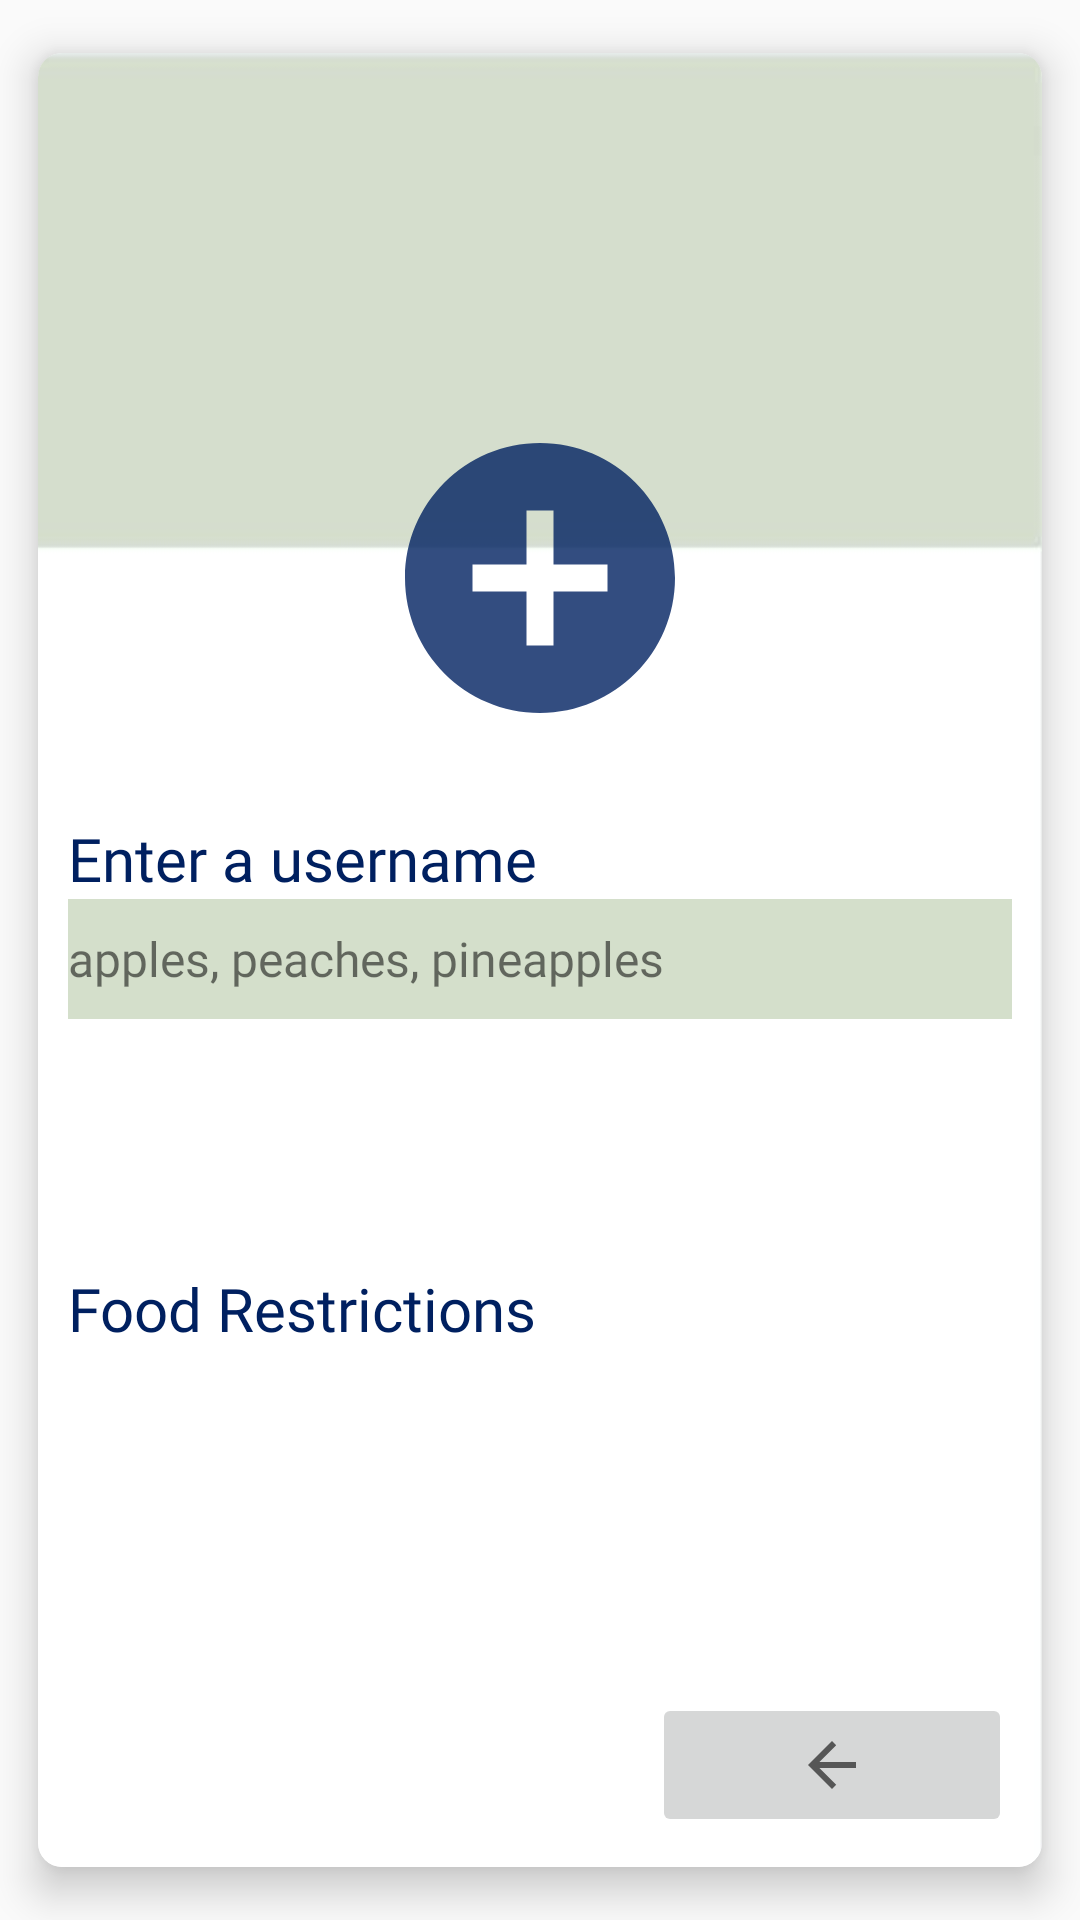

Icon click points for this 1080*1920 phone screenshot, format (x,y):
add: (540,578)
